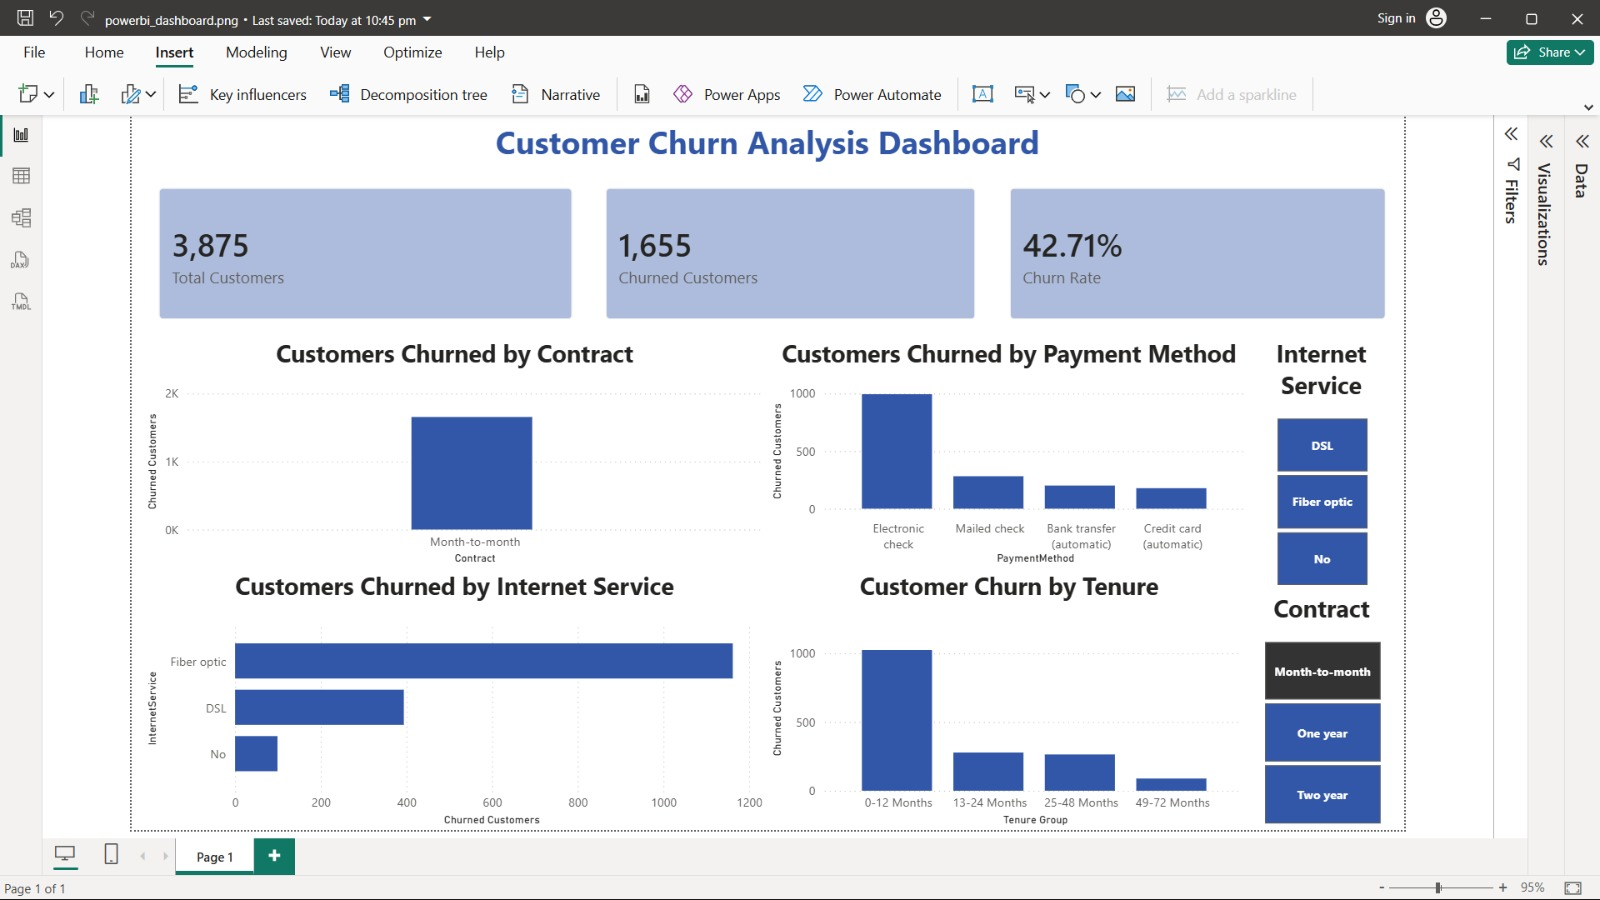

The page's visual inventory and layout, read from the dashboard file:
{"tool":"powerbi","page":{"name":"Page 1","canvas":[1280,720],"ordinal":0},"visuals":[{"type":"cardVisual","fields":{"Data":["Telco-Customer-Churn-Cleaned.Total Customers"]},"box":[10.5,57,450,166.3],"z":0},{"type":"cardVisual","fields":{"Data":["Telco-Customer-Churn-Cleaned.Churned Customers"]},"box":[460.5,57,407,166.3],"z":1000},{"type":"cardVisual","fields":{"Data":["Telco-Customer-Churn-Cleaned.Churn Rate"]},"box":[867.4,57,412.8,166.3],"z":2000},{"type":"clusteredColumnChart","title":"Customers Churned by Contract","fields":{"Category":["Telco-Customer-Churn-Cleaned.Contract"],"Y":["Telco-Customer-Churn-Cleaned.Churned Customers"]},"box":[10.5,223.3,629.1,233.7],"z":3000},{"type":"clusteredBarChart","title":"Customers Churned by Internet Service","fields":{"Category":["Telco-Customer-Churn-Cleaned.InternetService"],"Y":["Telco-Customer-Churn-Cleaned.Churned Customers"]},"box":[10.5,457,629.1,262.8],"z":4000},{"type":"clusteredColumnChart","title":"Customers Churned by Payment Method","fields":{"Category":["Telco-Customer-Churn-Cleaned.PaymentMethod"],"Y":["Telco-Customer-Churn-Cleaned.Churned Customers"]},"box":[639.5,223.3,487.2,233.7],"z":5000},{"type":"clusteredColumnChart","title":"Customer Churn by Tenure","fields":{"Category":["Telco-Customer-Churn-Cleaned.Tenure Group"],"Y":["Telco-Customer-Churn-Cleaned.Churned Customers"]},"box":[639.5,457,487.2,262.8],"z":6000},{"type":"slicer","title":"Contract","fields":{"Values":["Telco-Customer-Churn-Cleaned.Contract"]},"box":[1114,480.2,166.3,239.5],"z":7000},{"type":"slicer","title":"Internet Service","fields":{"Values":["Telco-Customer-Churn-Cleaned.InternetService"]},"box":[1126.7,223.3,140.7,257],"z":8000},{"type":"textbox","box":[0,0,1280.2,57],"z":8001}]}

Visuals, with their boxes on the page's 1280x720 design canvas (x1, y1, x2, y2). These are canvas units, not pixel positions in the 1600x900 screenshot, which may show the page scaled, cropped or inside an application window:
cardVisual - Telco-Customer-Churn-Cleaned.Total Customers: [10,57,460,223]
cardVisual - Telco-Customer-Churn-Cleaned.Churned Customers: [460,57,868,223]
cardVisual - Telco-Customer-Churn-Cleaned.Churn Rate: [867,57,1280,223]
"Customers Churned by Contract" clusteredColumnChart: [10,223,640,457]
"Customers Churned by Internet Service" clusteredBarChart: [10,457,640,720]
"Customers Churned by Payment Method" clusteredColumnChart: [640,223,1127,457]
"Customer Churn by Tenure" clusteredColumnChart: [640,457,1127,720]
"Contract" slicer: [1114,480,1280,720]
"Internet Service" slicer: [1127,223,1267,480]
textbox: [0,0,1280,57]
